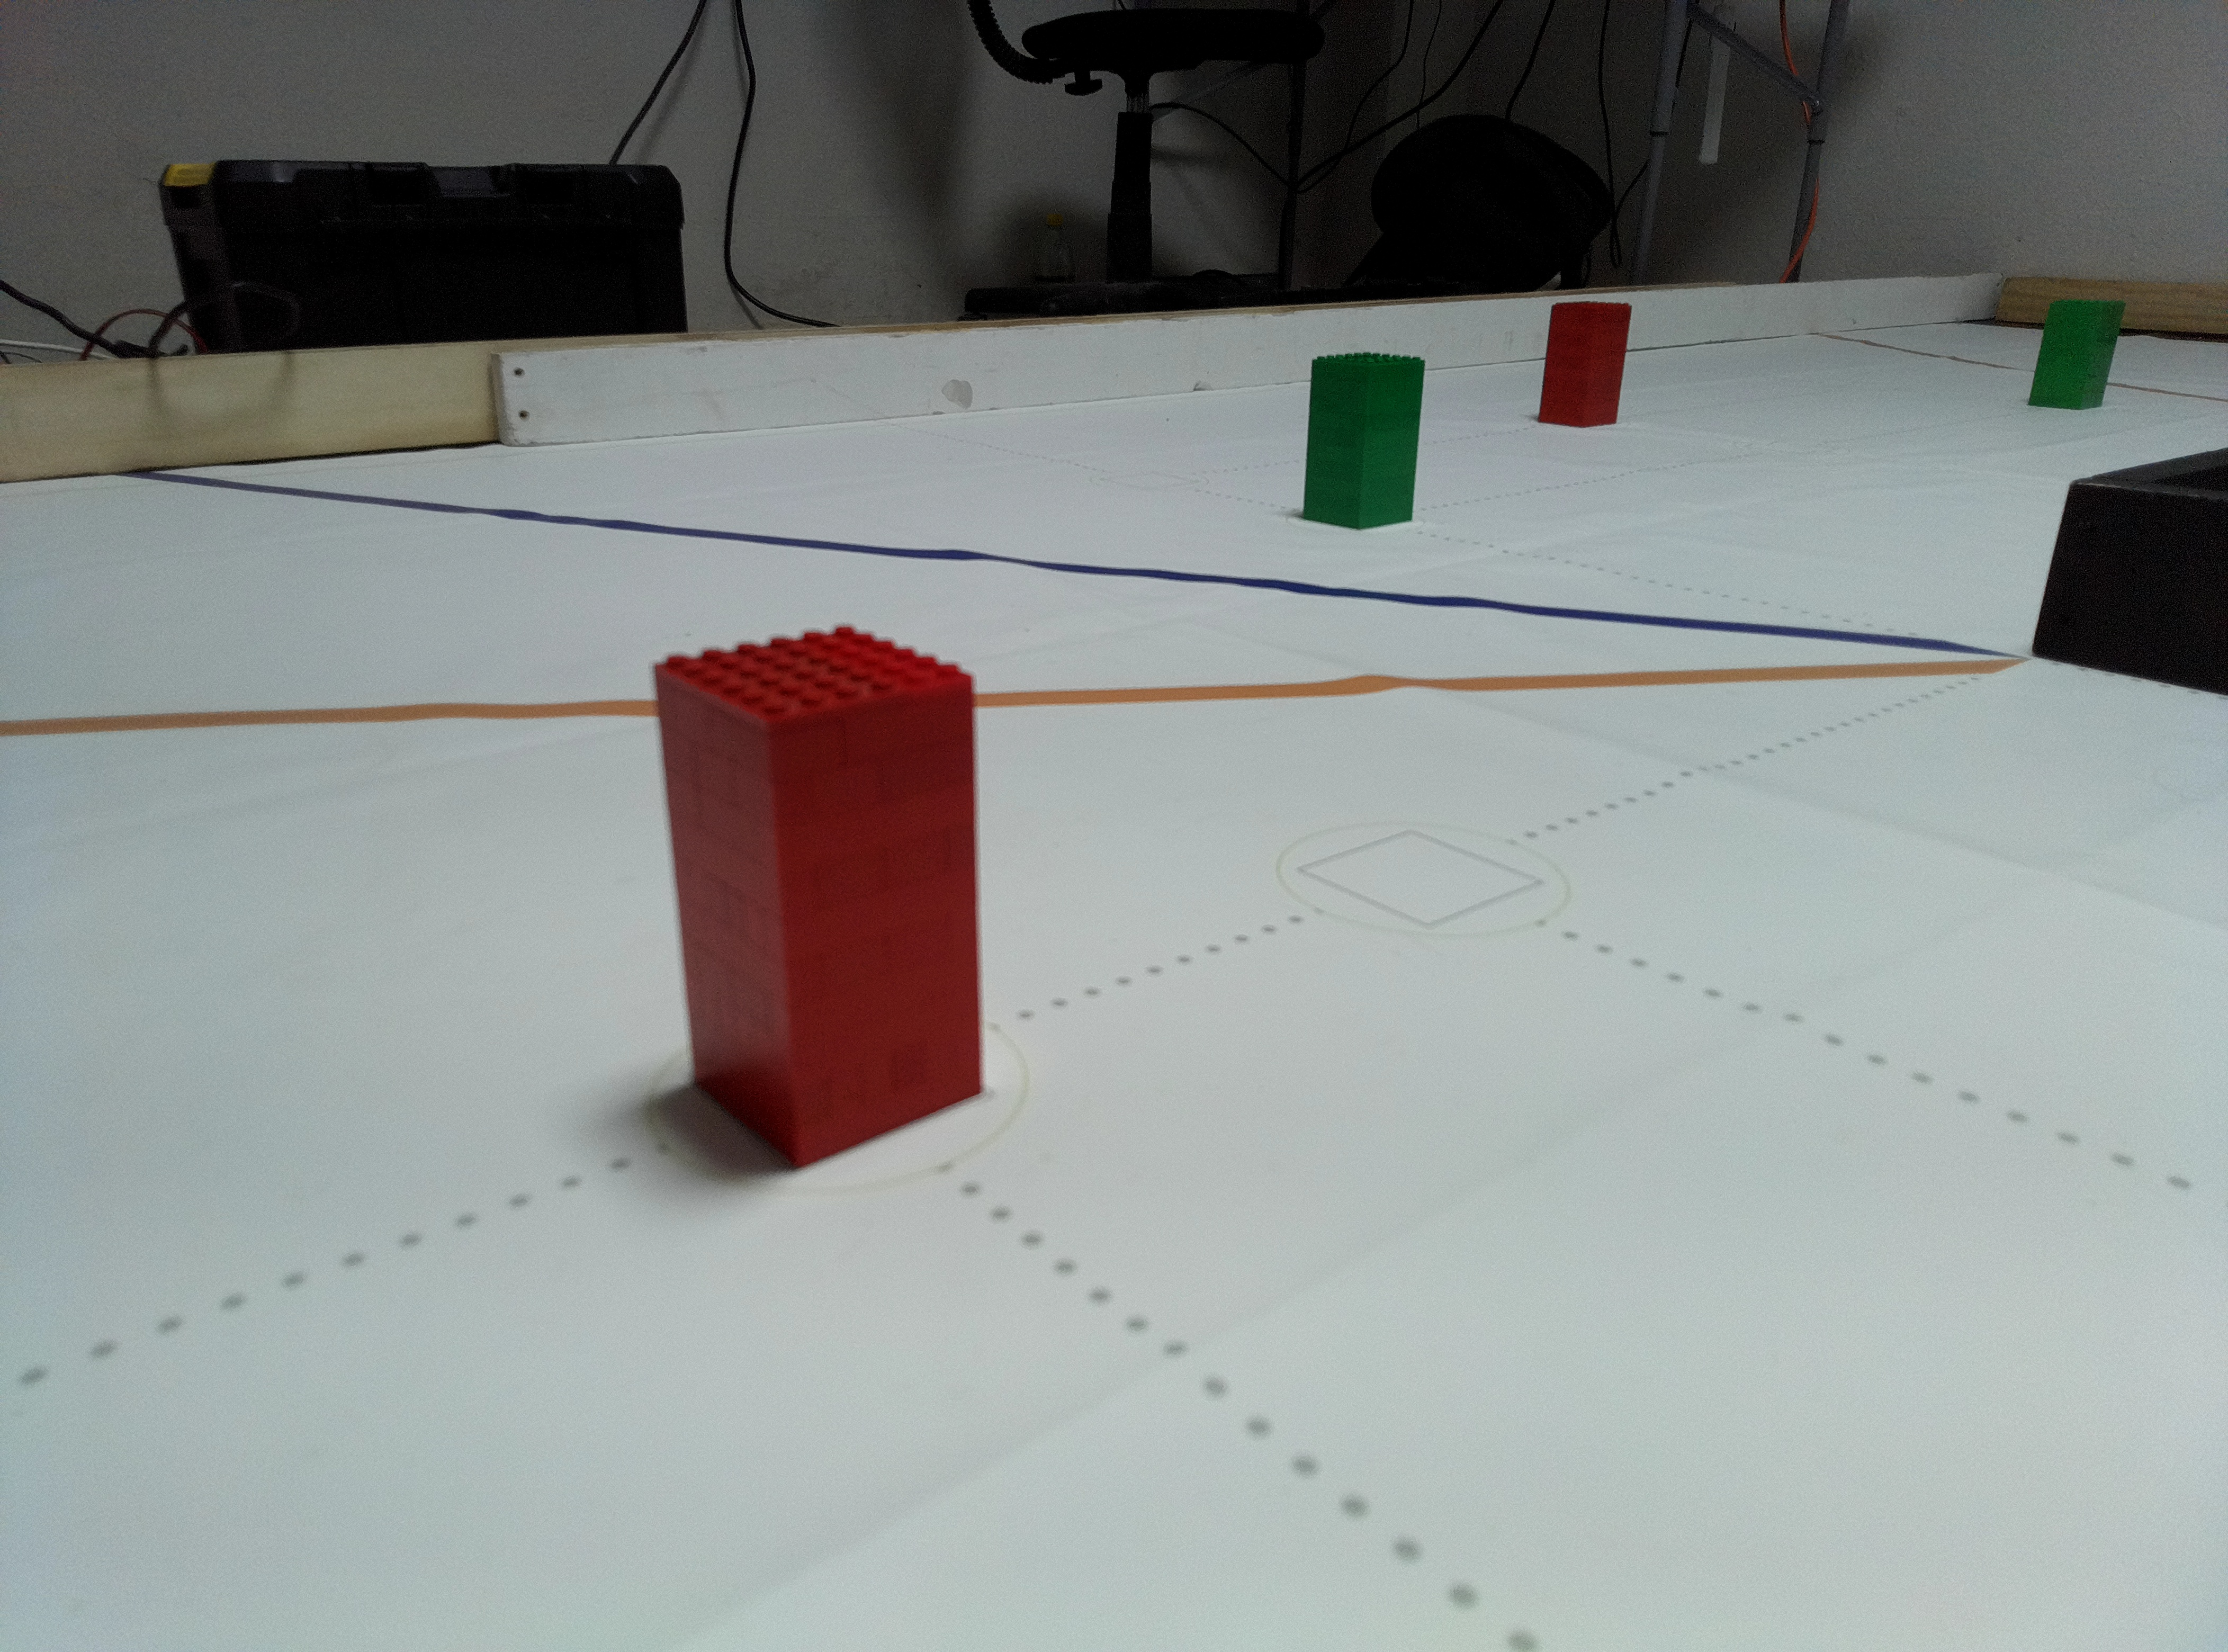greenbox: (1301, 349, 1428, 531), (2027, 298, 2126, 410)
redbox: (651, 626, 987, 1177), (1537, 300, 1633, 429)
